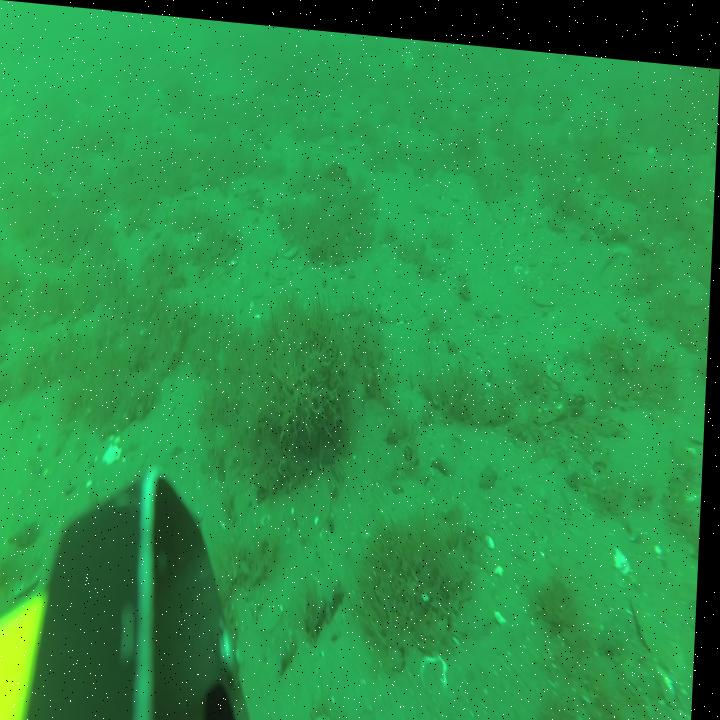scallop: (300, 464, 337, 537), (262, 580, 291, 629), (425, 642, 455, 685), (272, 252, 296, 279), (535, 273, 559, 298), (314, 704, 344, 720)
